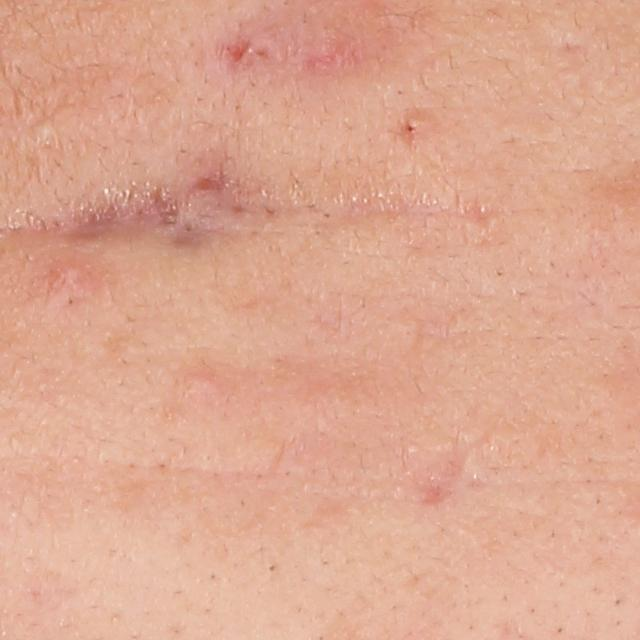atrophic_scar: (400, 427, 477, 512)
comedo: (28, 113, 57, 142), (396, 113, 423, 141)
papule: (294, 16, 391, 77), (185, 367, 220, 394)
